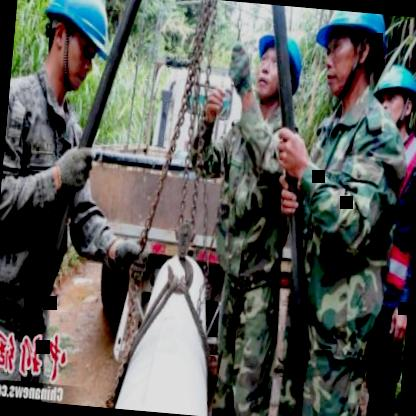helmet: (30, 0, 119, 102), (306, 8, 388, 110), (252, 24, 308, 106), (367, 55, 416, 135)
